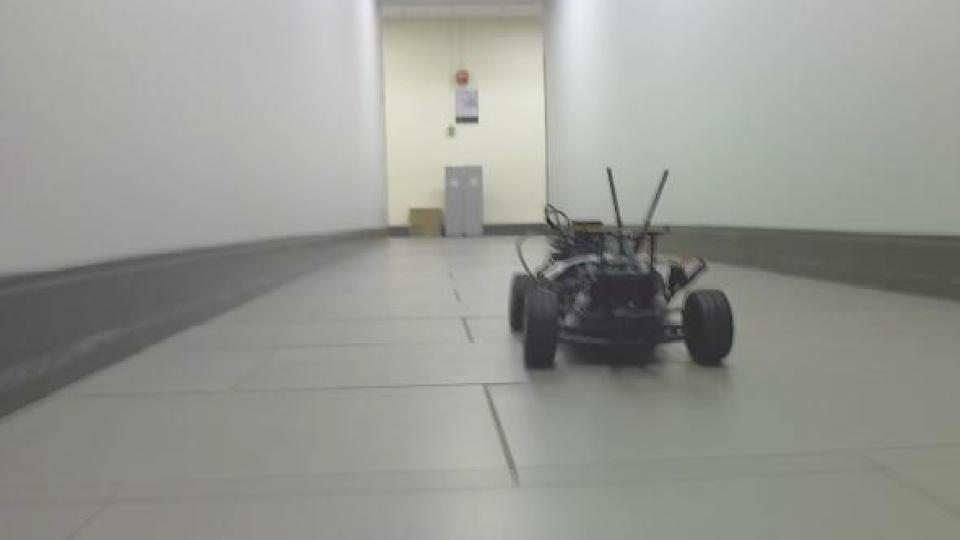car: (504, 164, 739, 373)
